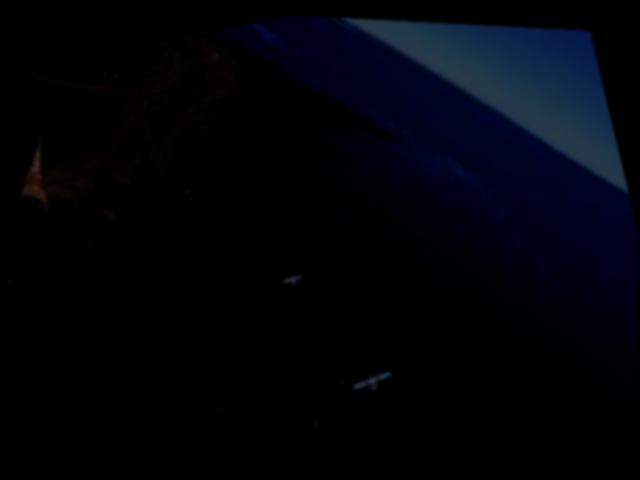uav: (348, 359, 399, 398), (278, 265, 308, 288)
